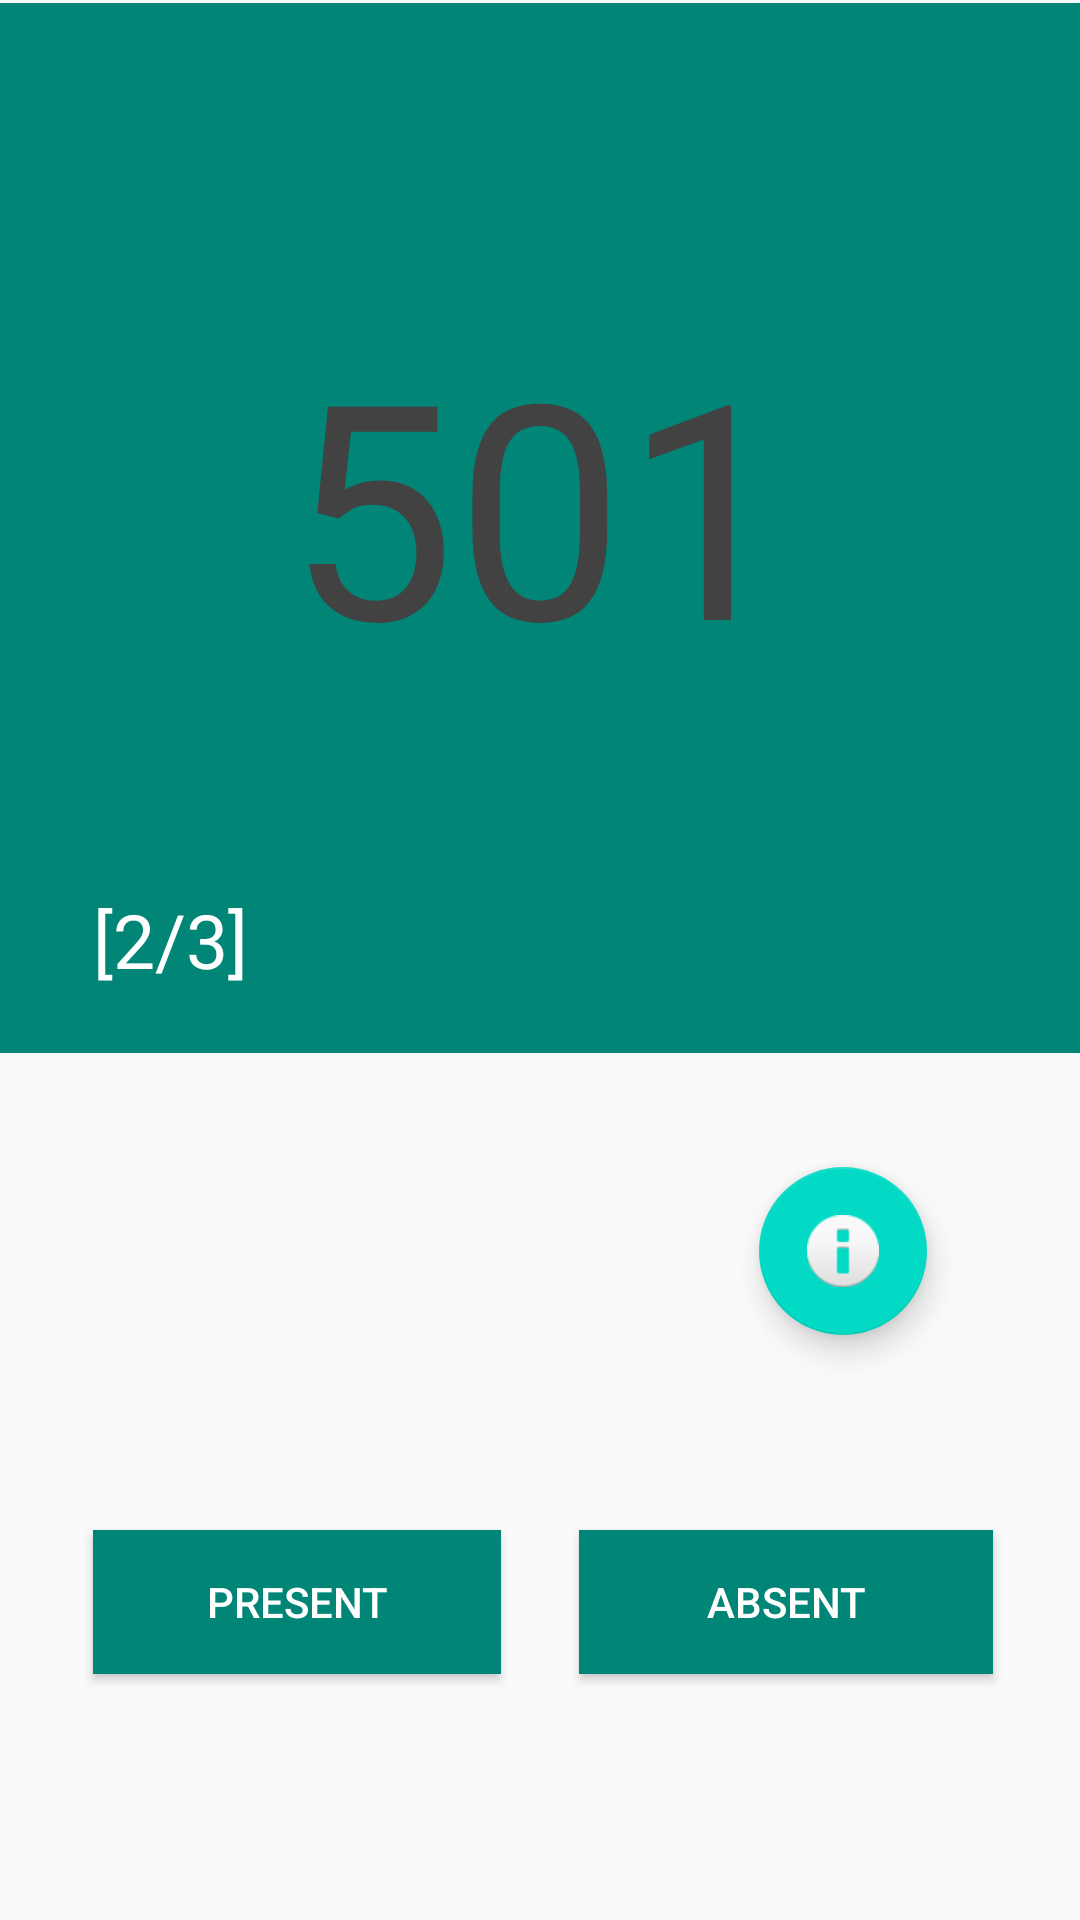

Where to tap for icons on this 1080*1920 app screen, as [x,y]:
info: [843,1251]
